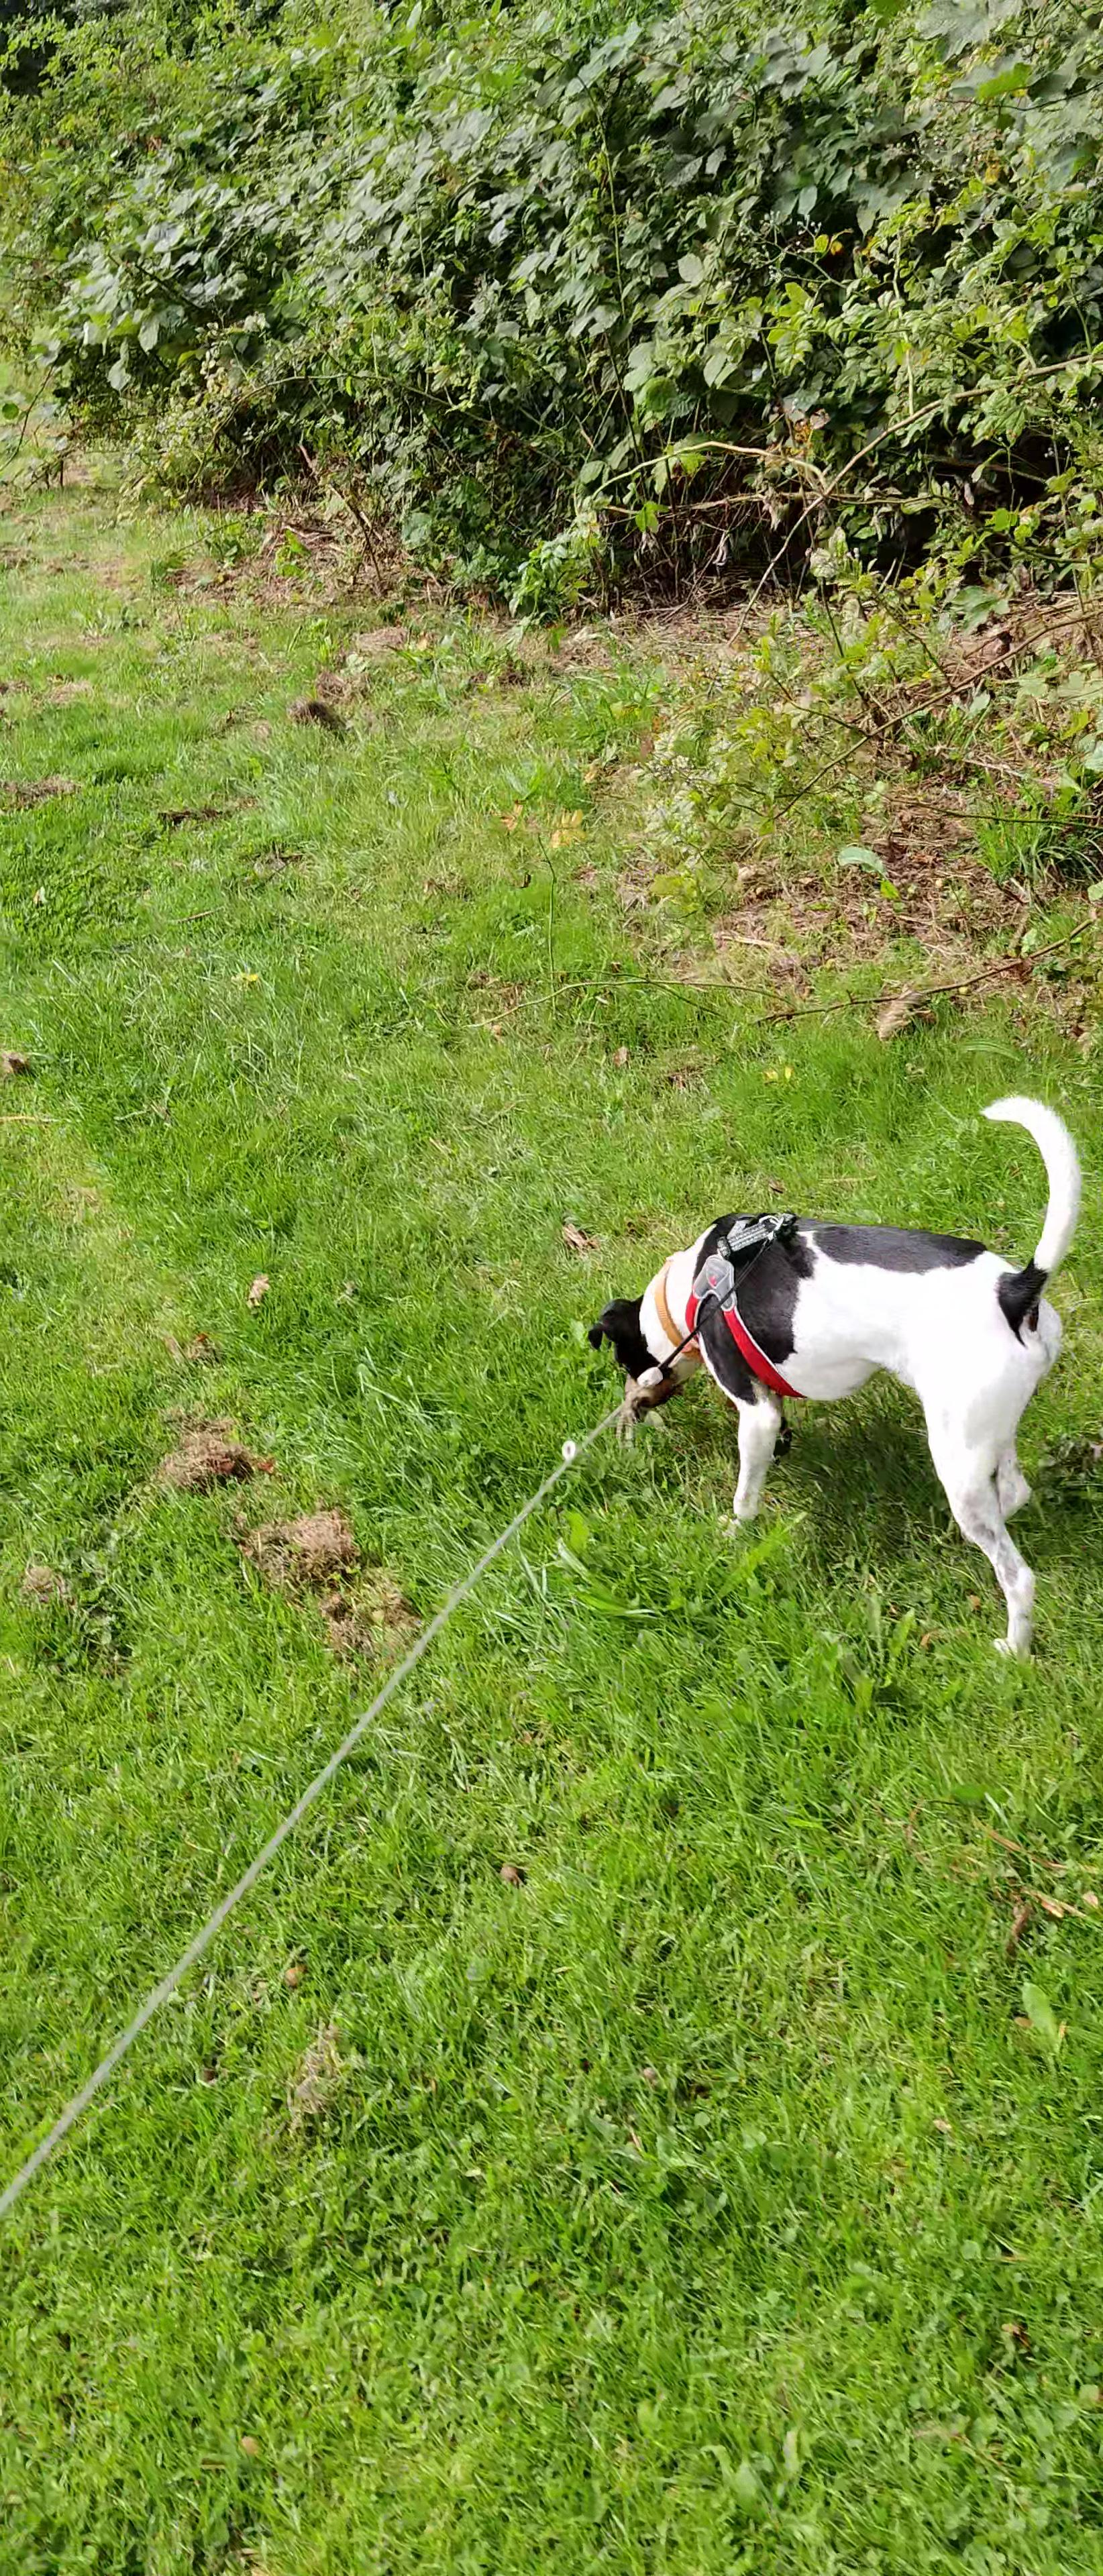Dog: (574, 1084, 1088, 1664)
